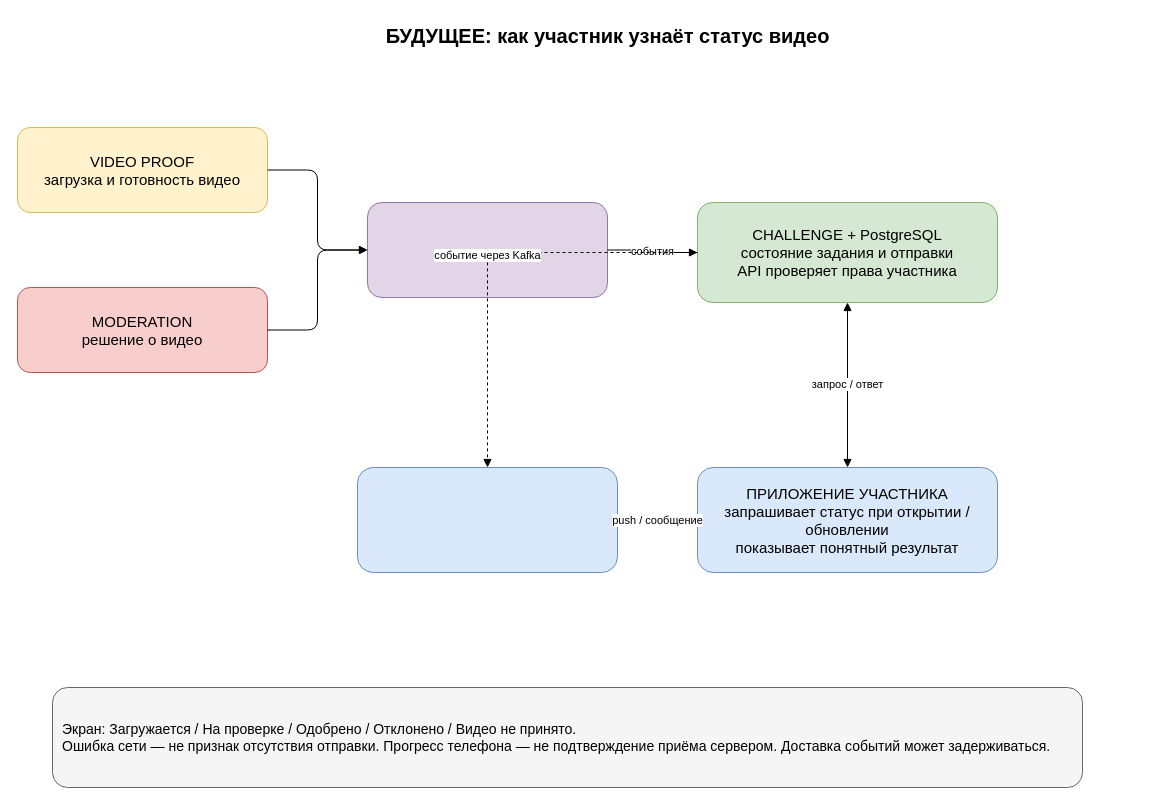
Some shapes in this 1175 by 805 pixel diagram are drawn without their labels. Here are the shapes that lost their labels. From the top down, the centre of each, then its label:
At pixel 487 250: "KAFKA подтверждённые события через Outbox".
At pixel 487 519: "NOTIFICATIONS сообщения с учётом настроек push не является источником результата".
